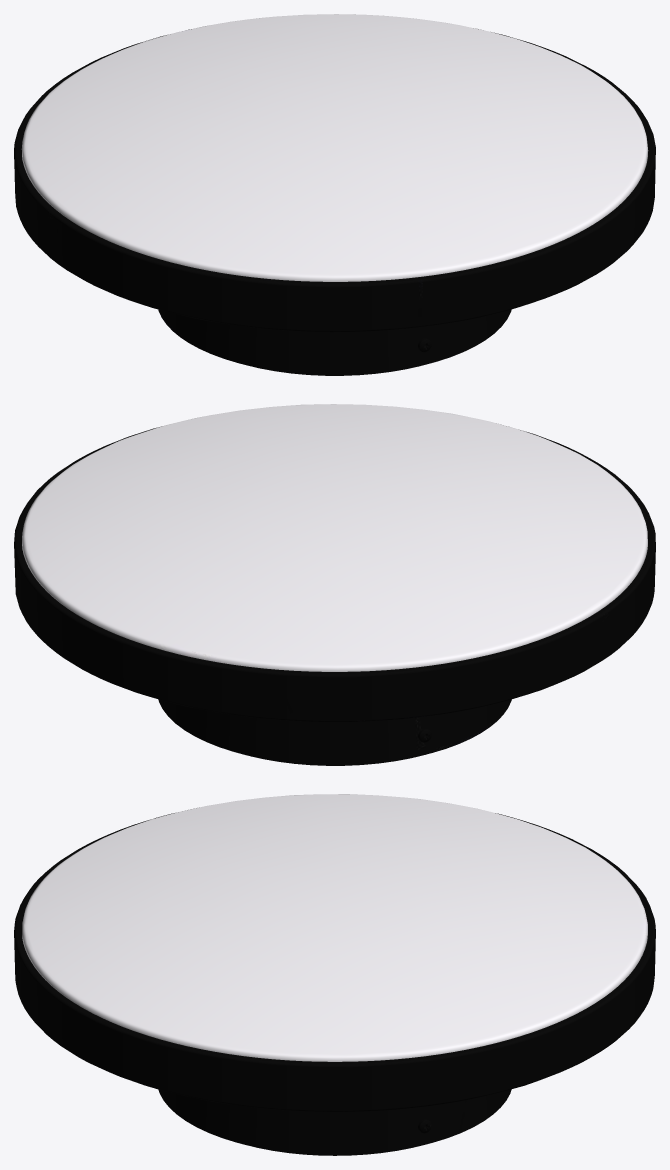
The model's file is kabomba_lampa_sufitowa_led_60485278.glb.
3 renders of one model, top to bottom at view 1: azimuth 30°, elevation 25°; view 2: azimuth 150°, elevation 25°; view 3: azimuth 270°, elevation 25°, orthographic.
Parts seen in each view (by area): view 1: kabomba_lampa_sufitowa_led_60485278; view 2: kabomba_lampa_sufitowa_led_60485278; view 3: kabomba_lampa_sufitowa_led_60485278.
Boxes of the visible parts, x1,y1,x2,y2 form: kabomba_lampa_sufitowa_led_60485278: [14, 14, 655, 375]; kabomba_lampa_sufitowa_led_60485278: [14, 404, 655, 765]; kabomba_lampa_sufitowa_led_60485278: [14, 794, 655, 1155].
Bounding box in the file's own units: 0.3598 × 0.1143 × 0.36.
Materials: 1 (1 with a texture image).
